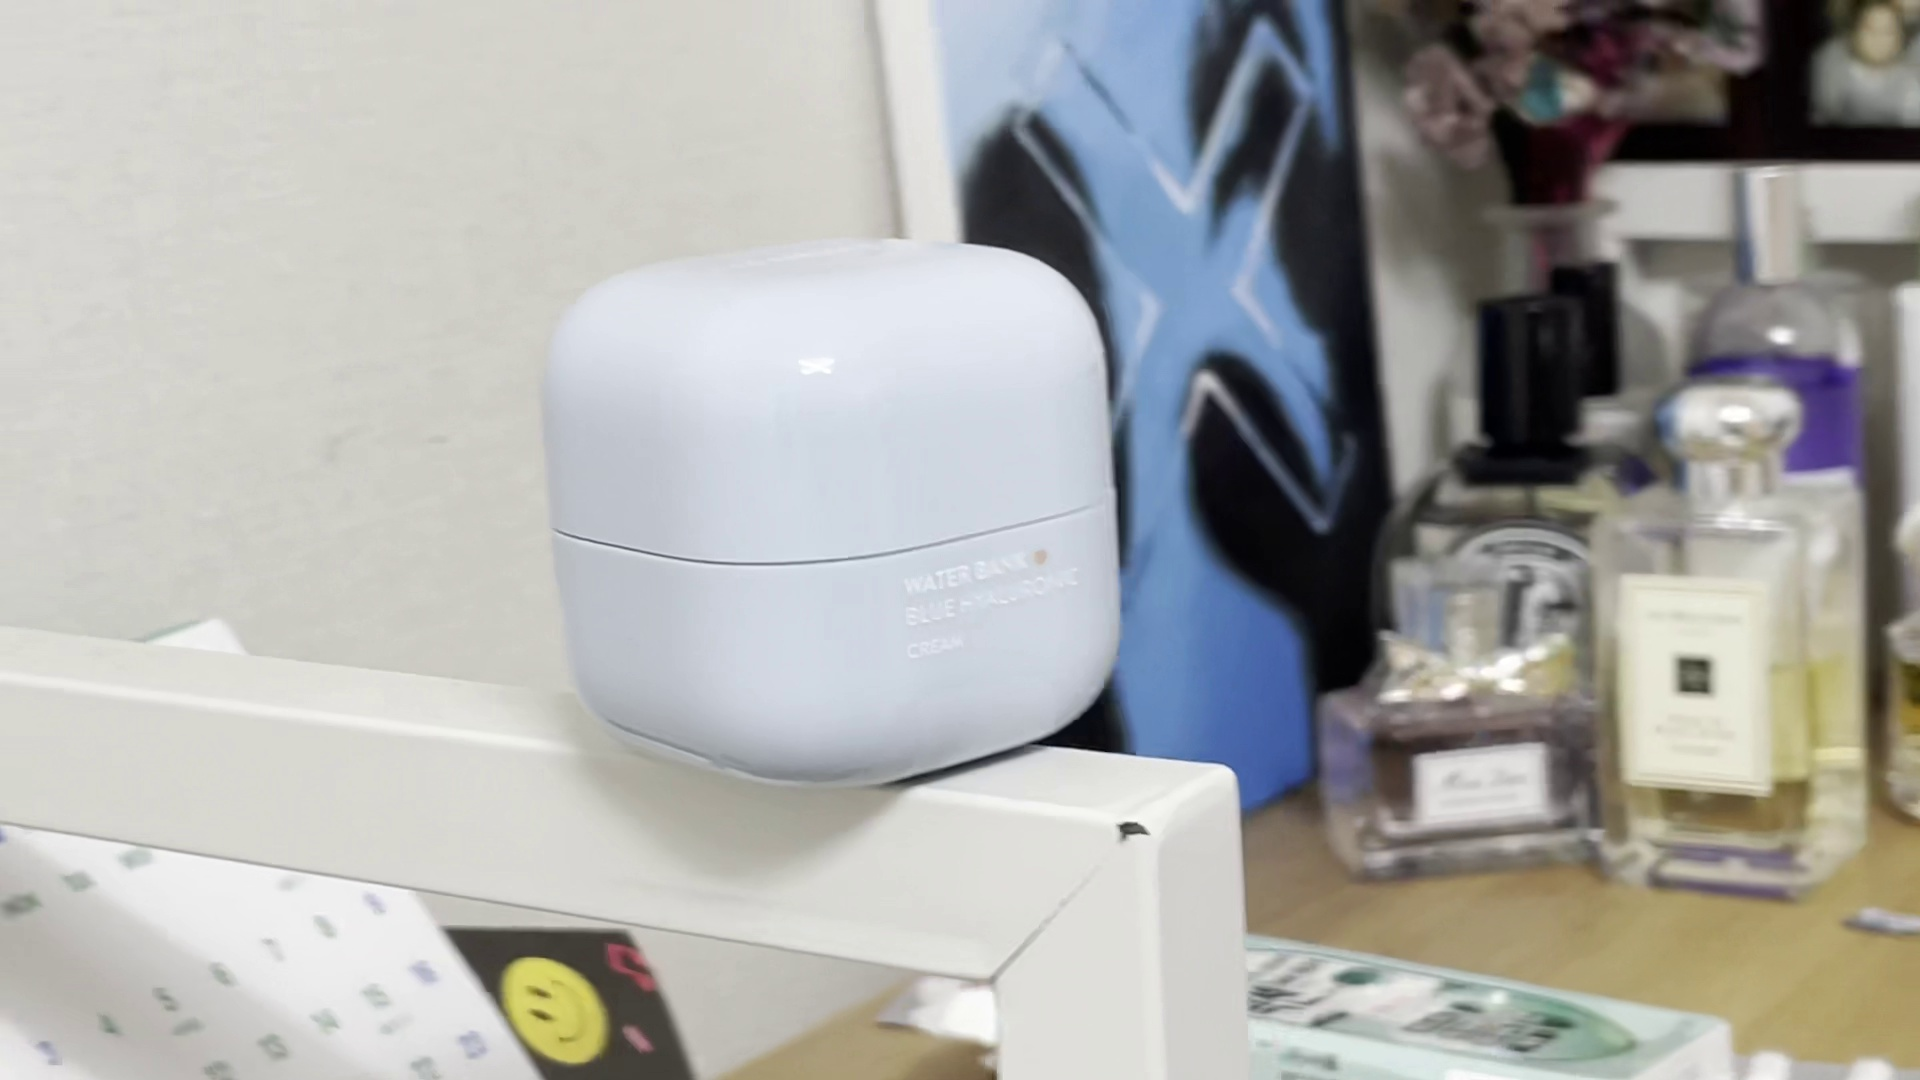cream: (542, 235, 1134, 790)
